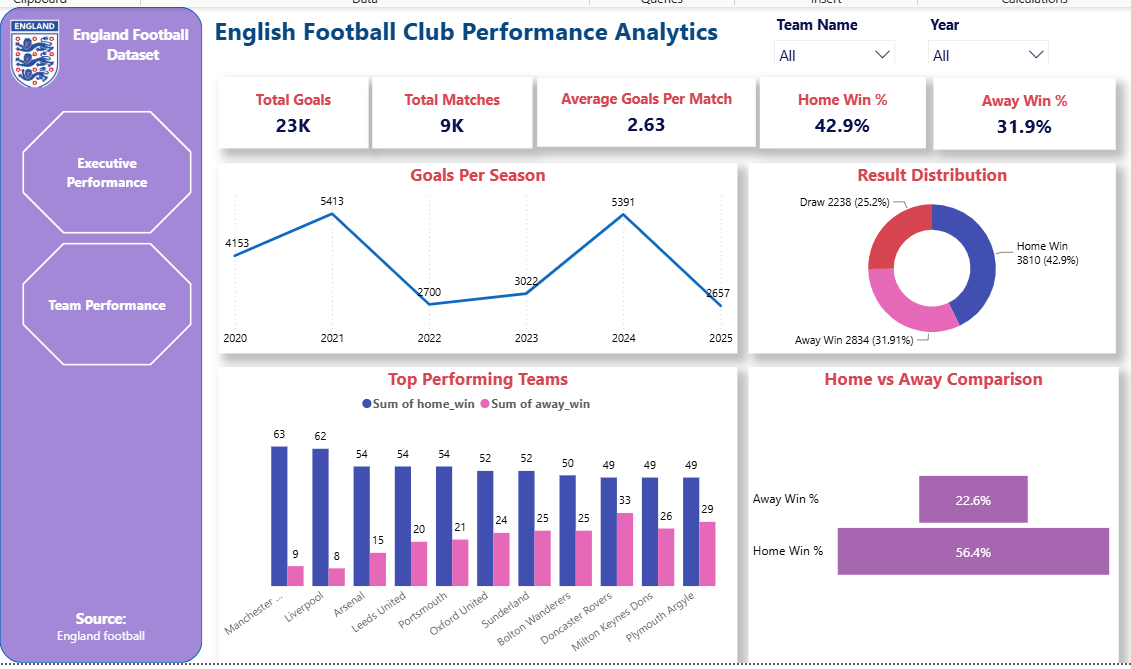

The page's visual inventory and layout, read from the dashboard file:
{"tool":"powerbi","page":{"name":"Executive Performance","canvas":[1280,720],"ordinal":0},"visuals":[{"type":"shape","box":[9.6,0,222.3,720],"z":0},{"type":"image","box":[16.5,13.7,63.1,74.1],"z":1000},{"type":"textbox","box":[79.6,13.7,152.3,56.3],"z":2000},{"type":"cardVisual","fields":{"Data":["england_match.Total Goals"]},"box":[249.7,77.2,164.7,78.2],"z":3000},{"type":"textbox","box":[240.1,2.7,594.2,60.4],"z":4000},{"type":"cardVisual","fields":{"Data":["england_match.Total Matches"]},"box":[418.5,77.2,175.6,78.2],"z":5000},{"type":"cardVisual","fields":{"Data":["england_match.Average Goals Per Match"]},"box":[599.7,78.6,240.1,75.5],"z":6000},{"type":"cardVisual","fields":{"Data":["england_match.Home Win %"]},"box":[843.9,77.2,182.5,78.2],"z":7000},{"type":"cardVisual","fields":{"Data":["england_match.Away Win %"]},"box":[1034.7,78.6,200.3,78.2],"z":8000},{"type":"lineChart","title":"Goals  Per Season","fields":{"Category":["england_match.date.Variation.Date Hierarchy.Year"],"Y":["england_match.Total Goals"]},"box":[249.7,171.1,569.5,208.6],"z":9000},{"type":"donutChart","title":"Result Distribution","fields":{"Y":["england_match.Total Matches"],"Category":["england_match.match_result"]},"box":[831.6,171.1,403.4,208.6],"z":10000},{"type":"clusteredColumnChart","title":"Top Performing Teams","fields":{"Category":["england_match.home"],"Y":["Sum(england_match.home_win)","Sum(england_match.away_win)"]},"box":[249.7,395.2,569.5,325.2],"z":11000},{"type":"funnel","title":"Home vs Away Comparison","fields":{"Y":["england_match.Away Win %","england_match.Home Win %"]},"box":[831.6,395.2,406.2,325.2],"z":12000},{"type":"pageNavigator","box":[34.3,113.9,186.6,281.3],"z":13000},{"type":"slicer","fields":{"Values":["england_match.home"]},"box":[850,2.9,152.9,60],"z":14000},{"type":"slicer","fields":{"Values":["england_match.date.Variation.Date Hierarchy.Year"]},"box":[1018.6,2.9,152.9,60],"z":15000},{"type":"textbox","box":[34.3,654.3,172.9,55.7],"z":16000}]}

Visuals, with their boxes on the page's 1280x720 design canvas (x1, y1, x2, y2). These are canvas units, not pixel positions in the 1131x669 screenshot, which may show the page scaled, cropped or inside an application window:
shape: detection(10, 0, 232, 720)
image: detection(16, 14, 80, 88)
textbox: detection(80, 14, 232, 70)
cardVisual - england_match.Total Goals: detection(250, 77, 414, 155)
textbox: detection(240, 3, 834, 63)
cardVisual - england_match.Total Matches: detection(418, 77, 594, 155)
cardVisual - england_match.Average Goals Per Match: detection(600, 79, 840, 154)
cardVisual - england_match.Home Win %: detection(844, 77, 1026, 155)
cardVisual - england_match.Away Win %: detection(1035, 79, 1235, 157)
"Goals  Per Season" lineChart: detection(250, 171, 819, 380)
"Result Distribution" donutChart: detection(832, 171, 1235, 380)
"Top Performing Teams" clusteredColumnChart: detection(250, 395, 819, 720)
"Home vs Away Comparison" funnel: detection(832, 395, 1238, 720)
pageNavigator: detection(34, 114, 221, 395)
slicer - england_match.home: detection(850, 3, 1003, 63)
slicer - england_match.date.Variation.Date Hierarchy.Year: detection(1019, 3, 1172, 63)
textbox: detection(34, 654, 207, 710)
